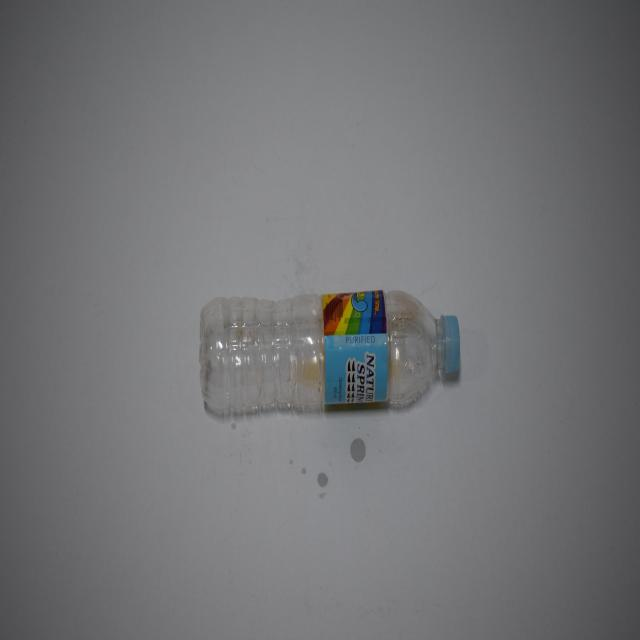bottle: (196, 288, 464, 420)
